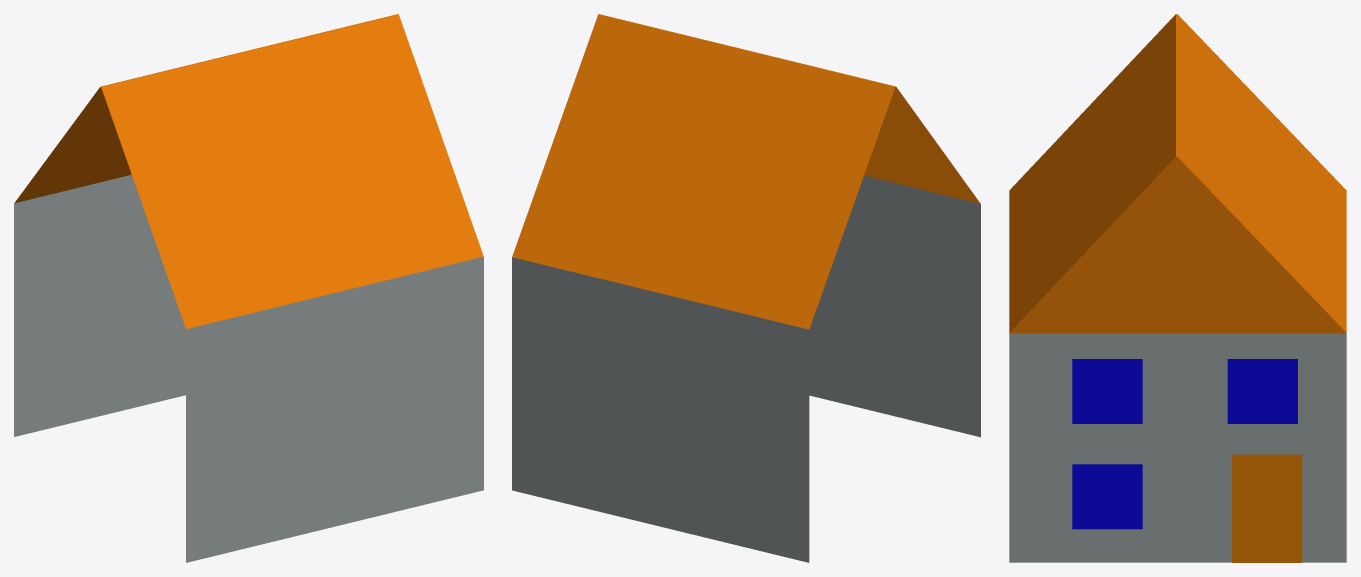
File: House.glb
3 renders of one model, left to right at view 1: azimuth 30°, elevation 25°; view 2: azimuth 150°, elevation 25°; view 3: azimuth 270°, elevation 25°, orthographic.
Parts seen in each view (by area): view 1: Base, Roof; view 2: Base, Roof; view 3: Roof, Base, Door, Window.002, Window, Window.001.
Part boxes in pixels (<box>): Base: <box>14,174,483,562</box>; Roof: <box>14,14,483,329</box>; Base: <box>512,175,980,562</box>; Roof: <box>512,14,980,329</box>; Roof: <box>1009,14,1346,333</box>; Base: <box>1009,333,1346,562</box>; Door: <box>1232,454,1302,562</box>; Window.002: <box>1072,464,1142,529</box>; Window: <box>1072,359,1142,423</box>; Window.001: <box>1227,359,1297,423</box>.
Size of the model in its own units: 1 by 1.33 by 1.
